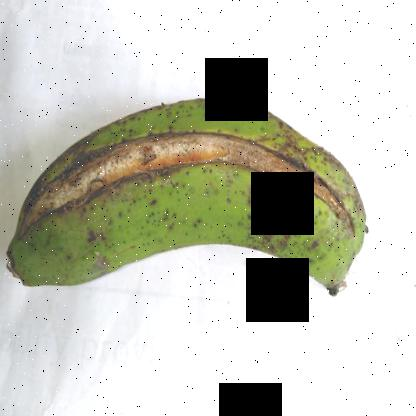rotten: (9, 114, 364, 243)
